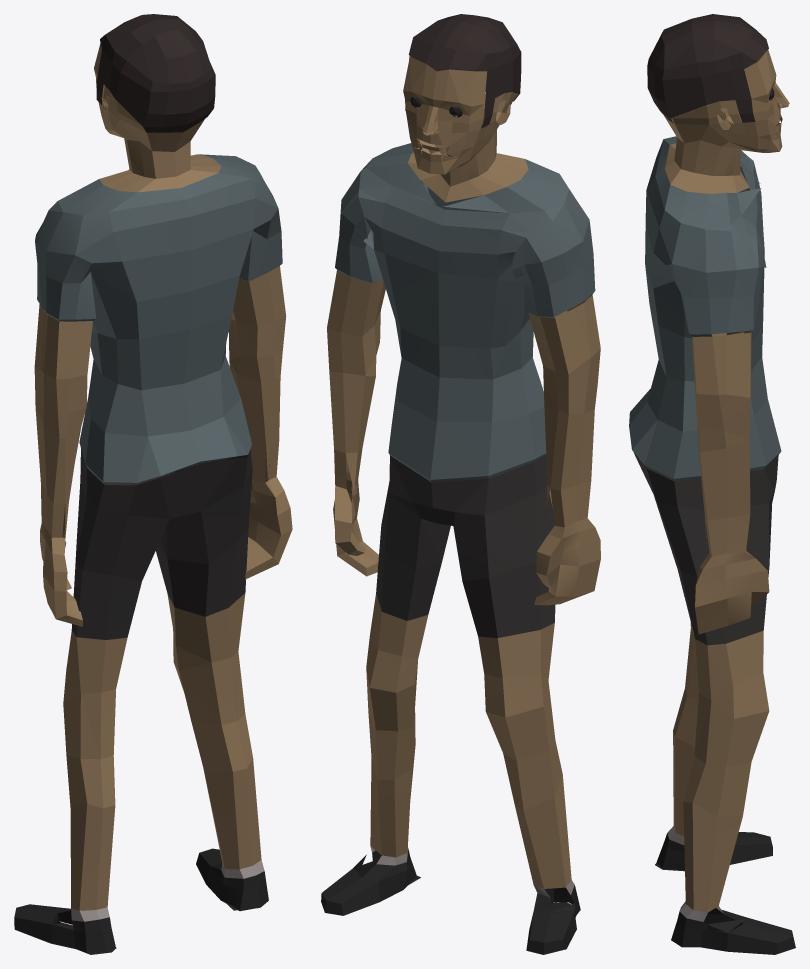
Rendered from person_3_idle.fbx.
3 renders of one model, left to right at view 1: azimuth 30°, elevation 25°; view 2: azimuth 150°, elevation 25°; view 3: azimuth 270°, elevation 25°, orthographic.
Visible parts, largest first — view 1: BaseHuman; view 2: BaseHuman; view 3: BaseHuman.
Boxes of the visible parts, left/top/right/bottom form: BaseHuman: left=14, top=14, right=292, bottom=954; BaseHuman: left=321, top=14, right=600, bottom=954; BaseHuman: left=629, top=14, right=795, bottom=954.
Size of the model in its own units: 0.2925 by 0.9985 by 0.1714.
